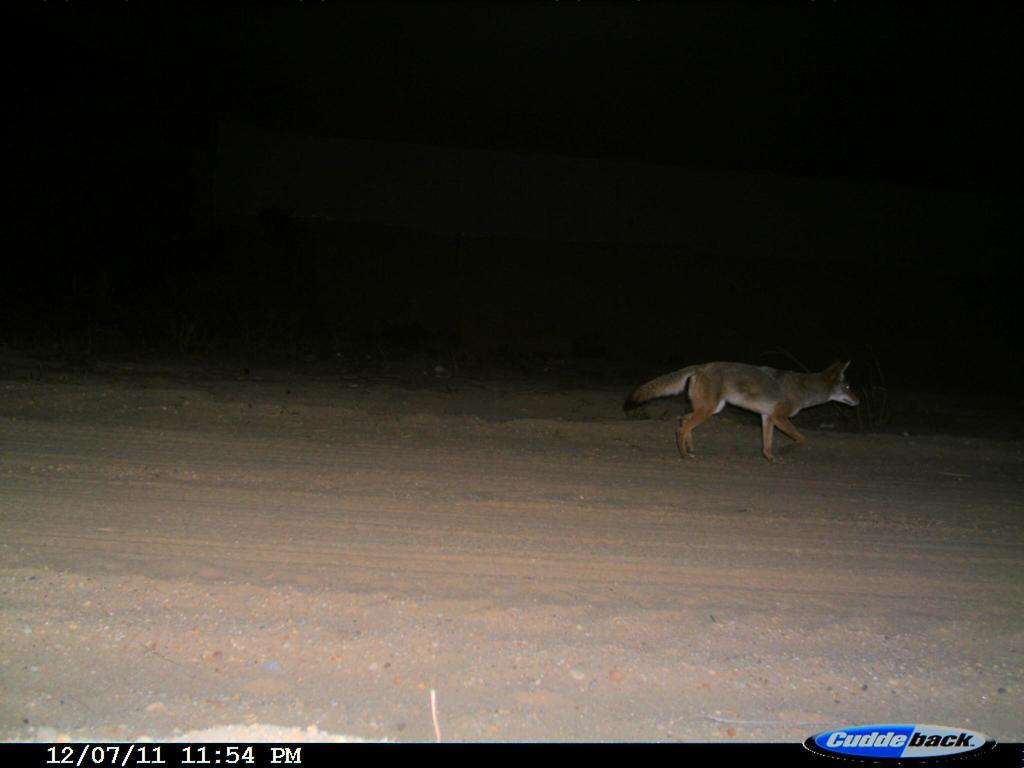coyote: (610, 341, 873, 468)
